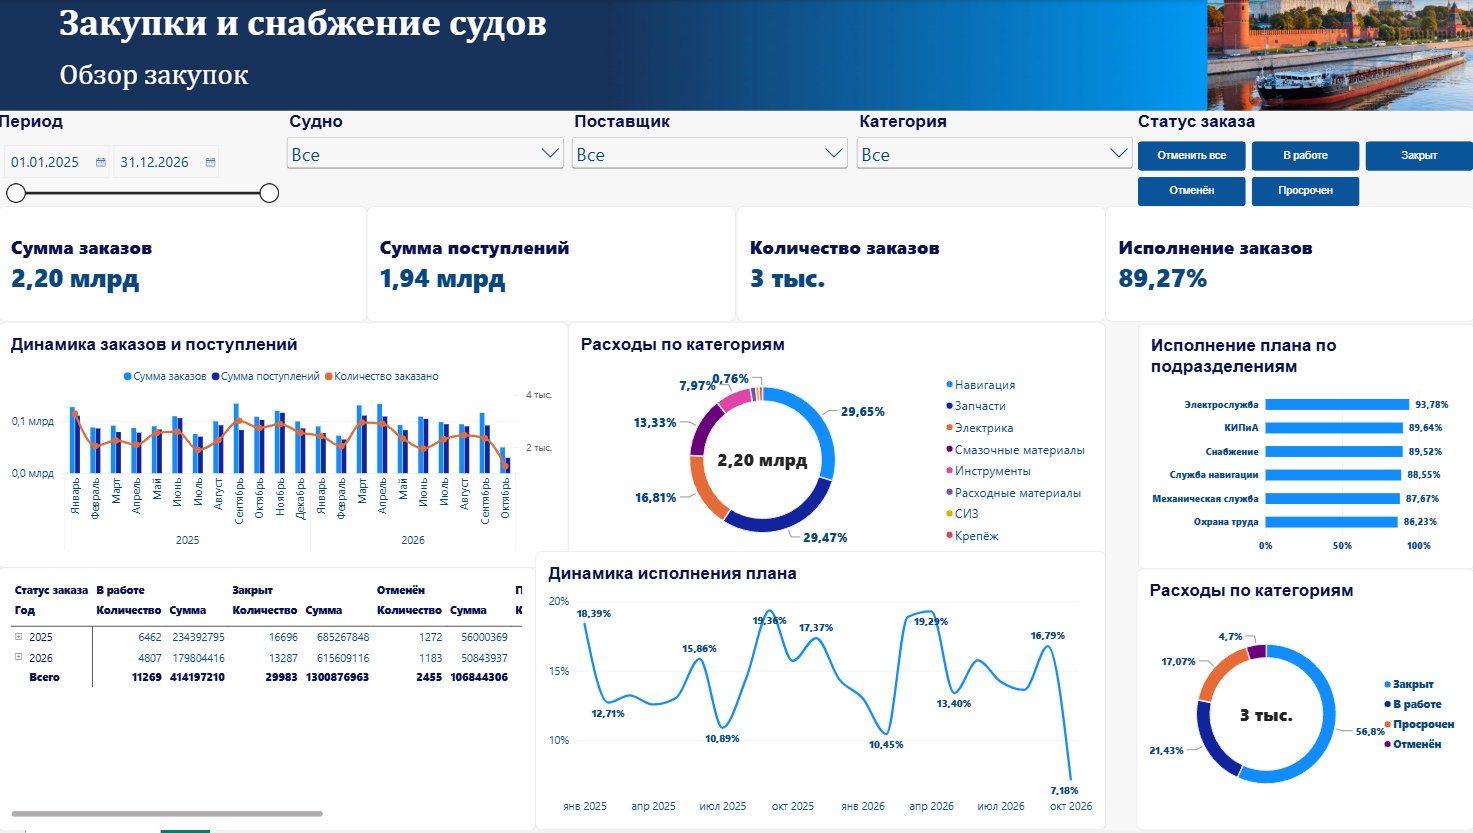

The page's visual inventory and layout, read from the dashboard file:
{"tool":"powerbi","page":{"name":"Страница 1","canvas":[1920,1080],"ordinal":0},"visuals":[{"type":"image","box":[1572.6,0,347.9,144.1],"z":0},{"type":"image","box":[0,0,1572.6,144.1],"z":1000},{"type":"textbox","box":[80.2,0,1402.3,144.8],"z":2000},{"type":"slicer","title":"Период","fields":{"Values":["Календарь.Дата"]},"box":[0,144.7,369,123.5],"z":3000},{"type":"slicer","fields":{"Values":["Суда.СудноИлиКонтур"]},"box":[370.6,144.7,370.6,110.5],"z":4000},{"type":"slicer","fields":{"Values":["Поставщики.Поставщик"]},"box":[741.3,144.7,369,123.5],"z":5000},{"type":"slicer","fields":{"Values":["Категории.Категория"]},"box":[1111.9,144.7,369,123.5],"z":6000},{"type":"advancedSlicerVisual","fields":{"Values":["Заказы.СтатусЗаказа"]},"box":[1482.6,144.8,437.8,123.8],"z":7000},{"type":"cardVisual","fields":{"Data":["Sum(Заказы.СуммаЗаказа)"]},"box":[0,268.6,480,150],"z":8000},{"type":"cardVisual","fields":{"Data":["Sum(Поступления.СуммаПоступления)"]},"box":[479.7,268.6,480,150],"z":9000},{"type":"cardVisual","fields":{"Data":["Заказы.Количество заказов"]},"box":[960.7,268.2,480,150],"z":10000},{"type":"cardVisual","fields":{"Data":["Заказы.Исполнение заказов"]},"box":[1440.7,268.6,480,150],"z":11000},{"type":"lineClusteredColumnComboChart","title":"Динамика заказов и поступлений","fields":{"Category":["Календарь.Дата.Variation.Иерархия дат.Год","Календарь.Дата.Variation.Иерархия дат.Месяц"],"Y":["Sum(Заказы.СуммаЗаказа)","Sum(Поступления.СуммаПоступления)"],"Y2":["Sum(Заказы.КоличествоЗаказано)"]},"box":[0,418.6,741.3,319.2],"z":12000},{"type":"donutChart","title":"Расходы по категориям","fields":{"Category":["Заказы.Категория"],"Y":["Sum(Заказы.СуммаЗаказа)"]},"box":[741.3,418.6,699.4,319.2],"z":12001},{"type":"clusteredBarChart","title":"Исполнение плана по подразделениям","fields":{"Category":["Заказы.Подразделение"],"Y":["Заказы.Исполнение заказов"]},"box":[1482.6,420.4,437.8,319.2],"z":12002},{"type":"donutChart","title":"Расходы по категориям","fields":{"Category":["Заказы.СтатусЗаказа"],"Y":["CountNonNull(Заказы.ЗаказID)"]},"box":[1480.8,739.5,439.5,340.1],"z":12003},{"type":"lineChart","title":"Динамика исполнения плана","fields":{"Category":["Календарь.Дата.Variation.Иерархия дат.Год","Календарь.Дата.Variation.Иерархия дат.Месяц"],"Y":["План_УХ.Исполнение плана"]},"box":[699.4,716.9,741.3,362.8],"z":12004},{"type":"pivotTable","fields":{"Columns":["Заказы.СтатусЗаказа"],"Rows":["Календарь.Дата.Variation.Иерархия дат.Год","Календарь.Дата.Variation.Иерархия дат.Квартал","Календарь.Дата.Variation.Иерархия дат.Месяц","Календарь.Дата.Variation.Иерархия дат.День","Заказы.Категория"],"Values":["Sum(Заказы.КоличествоЗаказано)","Sum(Заказы.СуммаЗаказа)"]},"box":[0,738,699,342],"z":12005}]}

Visuals, with their boxes in screenshot pixels (x1, y1, x2, y2), scaled from the page's 1920x1080 canvas onto the 1473x833 screenshot:
image: bbox=[1206, 0, 1472, 111]
image: bbox=[0, 0, 1206, 111]
textbox: bbox=[62, 0, 1137, 112]
"Период" slicer: bbox=[0, 112, 283, 207]
slicer - Суда.СудноИлиКонтур: bbox=[284, 112, 569, 197]
slicer - Поставщики.Поставщик: bbox=[569, 112, 852, 207]
slicer - Категории.Категория: bbox=[853, 112, 1136, 207]
advancedSlicerVisual - Заказы.СтатусЗаказа: bbox=[1137, 112, 1472, 207]
cardVisual - Sum(Заказы.СуммаЗаказа): bbox=[0, 207, 368, 323]
cardVisual - Sum(Поступления.СуммаПоступления): bbox=[368, 207, 736, 323]
cardVisual - Заказы.Количество заказов: bbox=[737, 207, 1105, 323]
cardVisual - Заказы.Исполнение заказов: bbox=[1105, 207, 1472, 323]
"Динамика заказов и поступлений" lineClusteredColumnComboChart: bbox=[0, 323, 569, 569]
"Расходы по категориям" donutChart: bbox=[569, 323, 1105, 569]
"Исполнение плана по подразделениям" clusteredBarChart: bbox=[1137, 324, 1472, 570]
"Расходы по категориям" donutChart: bbox=[1136, 570, 1472, 832]
"Динамика исполнения плана" lineChart: bbox=[537, 553, 1105, 832]
pivotTable - Заказы.СтатусЗаказа x Календарь.Дата.Variation.Иерархия дат.Год: bbox=[0, 569, 536, 832]
